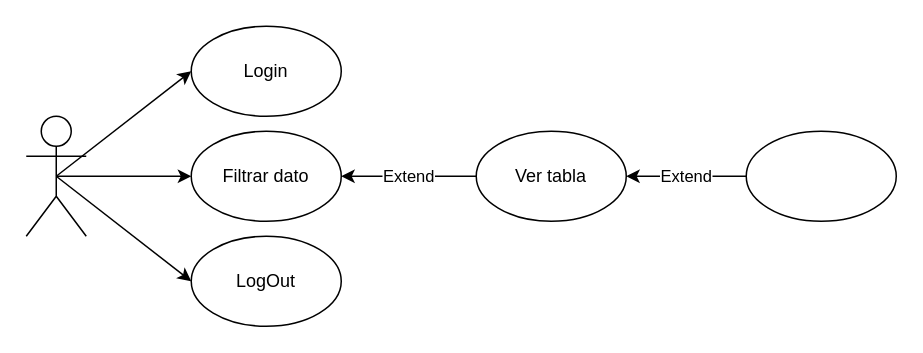
This 923x353 diagram has some shape labels left out. Here are the shapes that lost their labels. From the top down, the centre of each, then its label:
At point (55, 175): "Admin".
At point (820, 175): "Modificar tabla".
